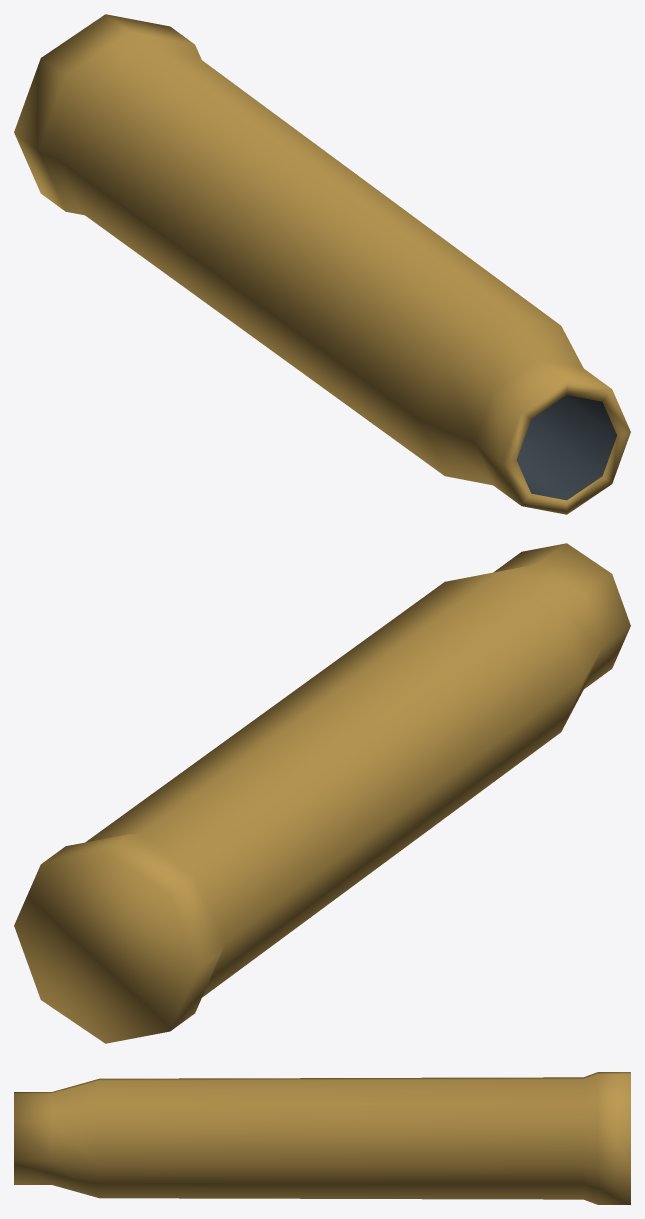
Rendered from tank_dart_case_game.glb.
3 renders of one model, top to bottom at view 1: azimuth 30°, elevation 25°; view 2: azimuth 150°, elevation 25°; view 3: azimuth 270°, elevation 25°, orthographic. The views are drawn at different scales.
Parts seen in each view (by area): view 1: AMMO_MESH.038; view 2: AMMO_MESH.038; view 3: AMMO_MESH.038.
Boxes of the visible parts, left/top/right/bottom form: AMMO_MESH.038: left=14, top=14, right=630, bottom=514; AMMO_MESH.038: left=14, top=543, right=630, bottom=1043; AMMO_MESH.038: left=14, top=1072, right=630, bottom=1204.
Bounding box in the file's own units: 0.14 × 0.14 × 0.611.
